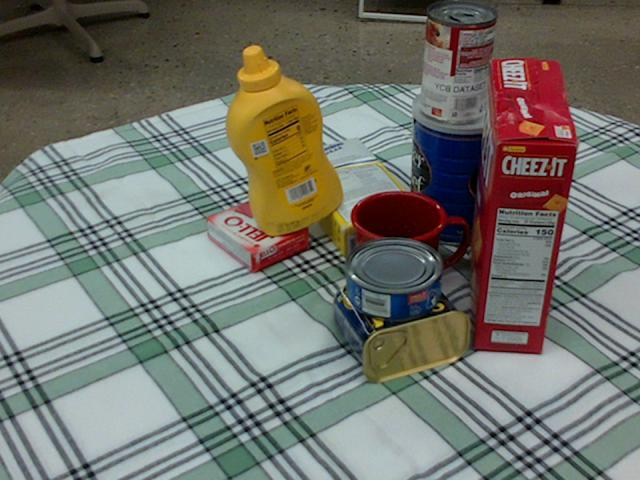cracker_box: (465, 59, 579, 353)
gelatin_box: (206, 197, 309, 274)
master_chef_can: (406, 84, 513, 245)
mug: (351, 191, 468, 306)
mustard_bottle: (225, 46, 342, 235)
potted_meat_can: (336, 262, 474, 379)
sugar_box: (284, 135, 421, 257)
tomato_soup_can: (420, 1, 496, 123)
tuna_fish_can: (345, 238, 443, 320)
